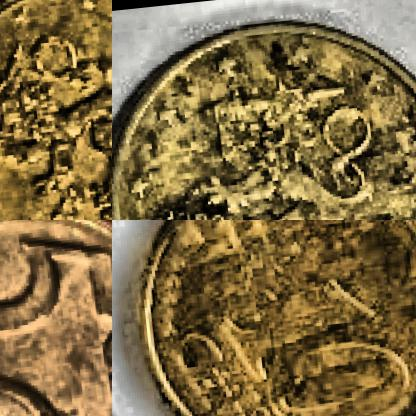coin: (112, 1, 415, 219), (120, 220, 415, 415), (0, 0, 111, 219), (0, 220, 111, 415)
